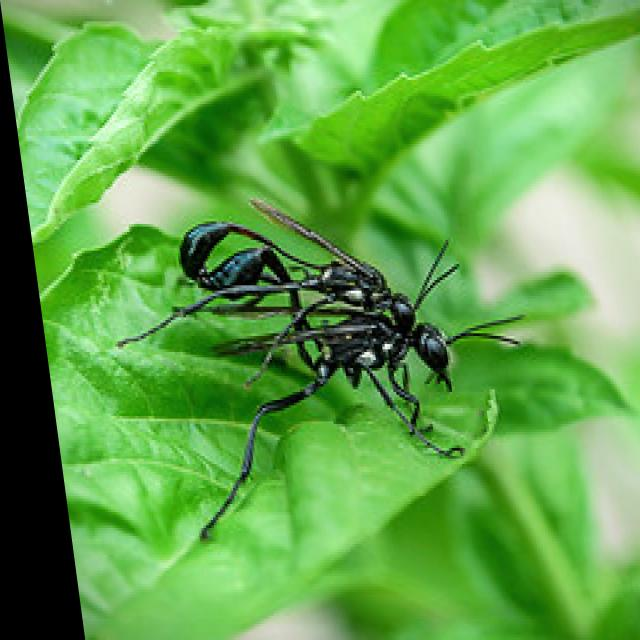Guepe: (190, 291, 492, 506), (108, 189, 424, 352)
